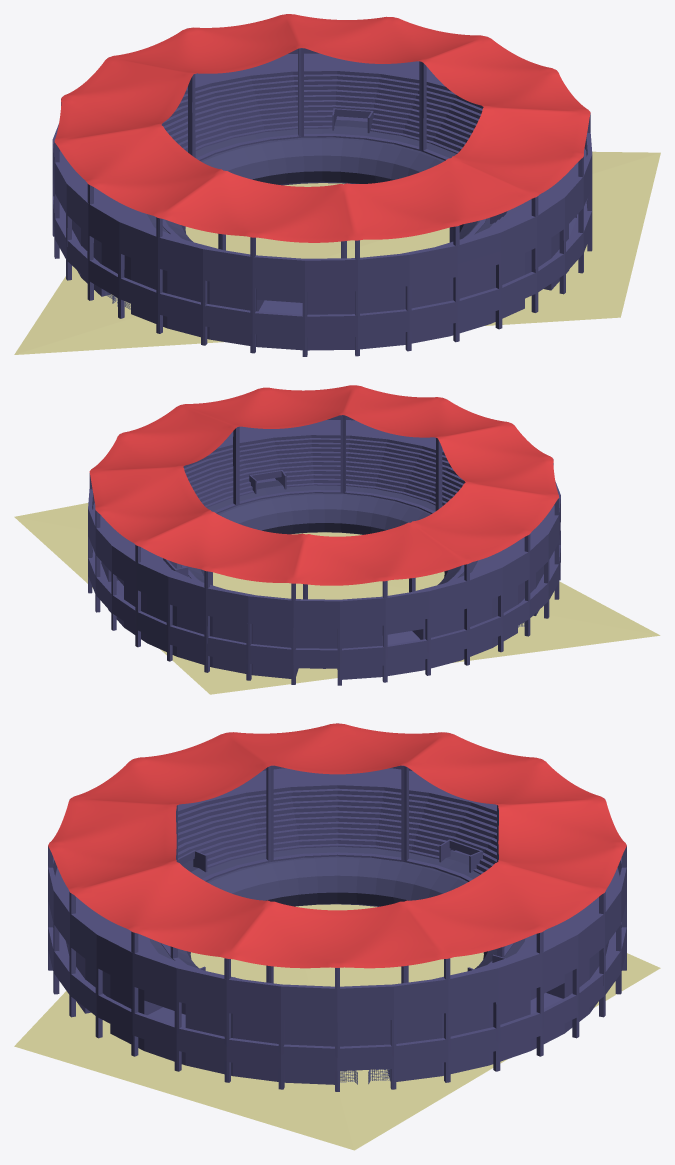
Rendered from arenabarrera.fbx.
The picture shows the model from 3 angles, top to bottom: view 1: azimuth 30°, elevation 25°; view 2: azimuth 150°, elevation 25°; view 3: azimuth 270°, elevation 25°; orthographic projection. The views are drawn at different scales.
Visible parts, largest first — view 1: Object_7, Object_3, Object_6, Torus; view 2: Object_7, Object_3, Object_6, Torus; view 3: Object_7, Object_3, Object_6, Torus.
Part boxes in pixels (x1,y1,x2,y2): Object_7: (52, 14, 592, 356); Object_3: (54, 14, 590, 242); Object_6: (14, 151, 660, 354); Torus: (147, 120, 492, 242); Object_7: (88, 415, 560, 685); Object_3: (89, 385, 559, 585); Object_6: (14, 503, 660, 694); Torus: (176, 480, 477, 668); Object_7: (48, 723, 626, 1091); Object_3: (48, 723, 626, 968); Object_6: (14, 904, 660, 1150); Torus: (149, 846, 525, 969).
Size of the model in its own units: 36956 by 7089 by 27917.
